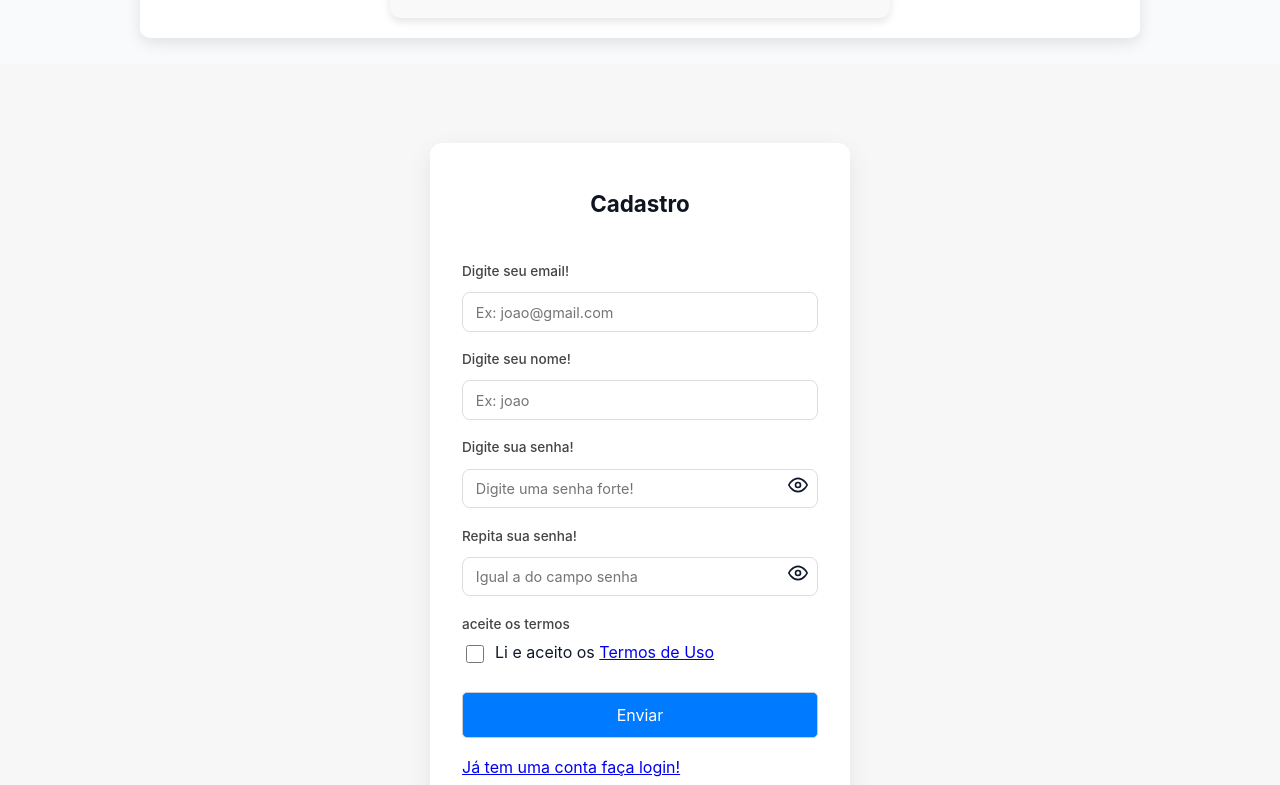
Test: should handle service response › should display the error message when the service returns status 422
(page scrolled)
Expected: the field with placeholder "Ex: joao@gmail.com" is shown, [462, 292, 818, 332]
Type "josef" into the field with placeholder "Ex: joao". click: point(640, 400)
box: [462, 380, 818, 420]
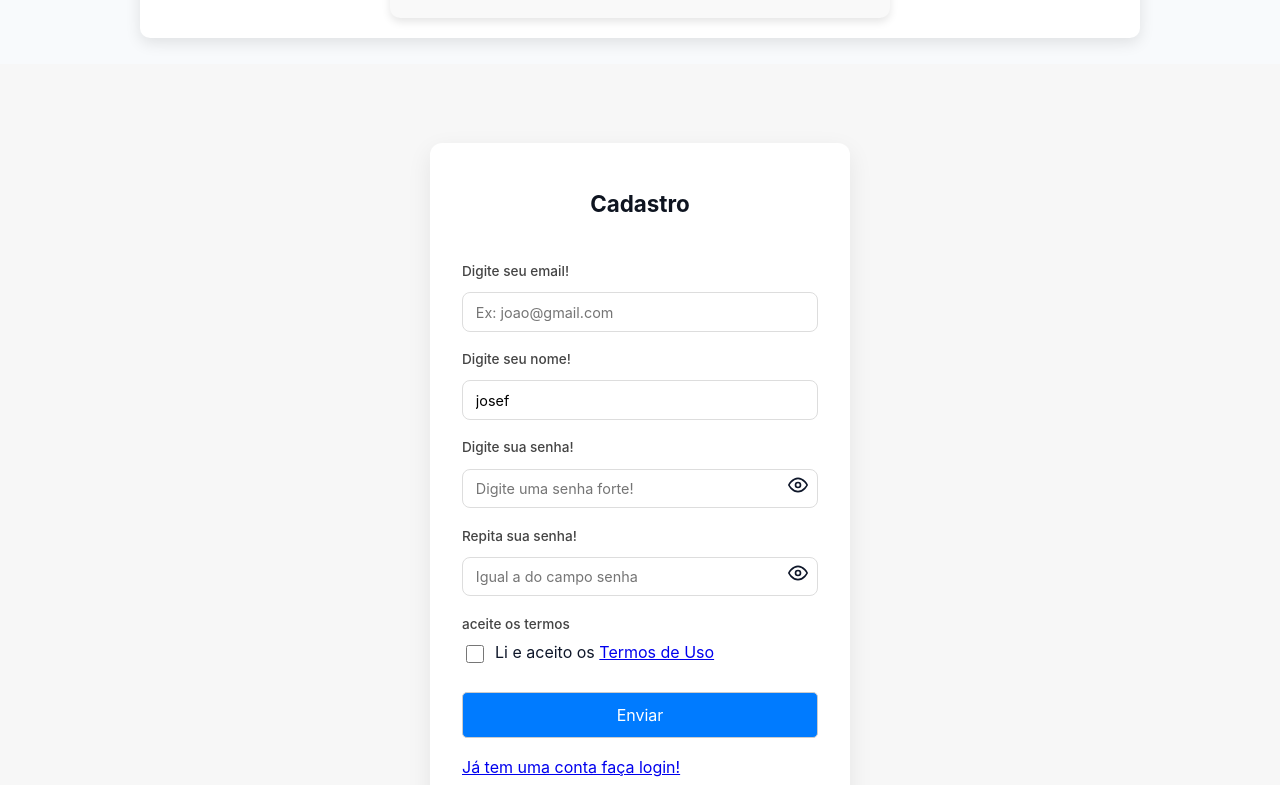
Type "lucas@gmail.com" into the field with placeholder "Ex: joao@gmail.com". click: point(640, 312)
box: [462, 292, 818, 332]
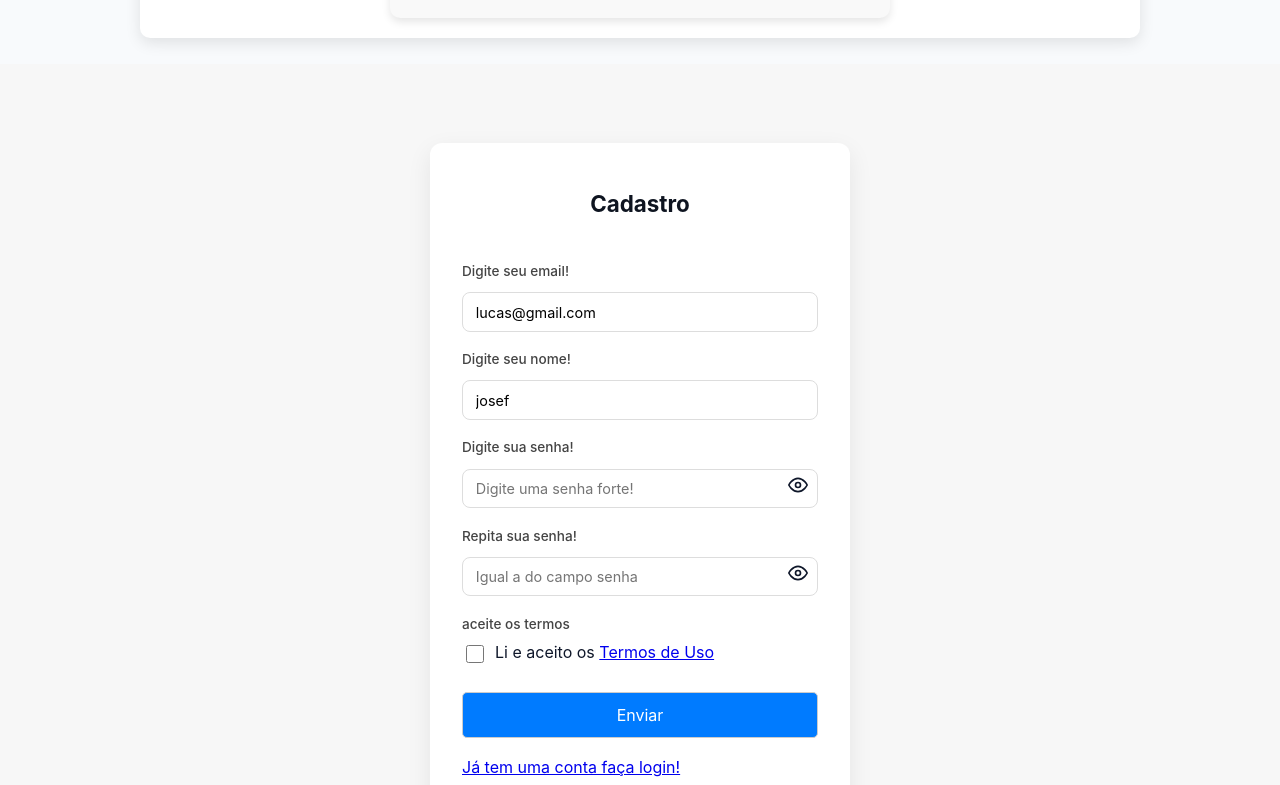
Type "123456" into the password field with placeholder "Digite uma senha forte!". click: point(640, 488)
box: [462, 468, 818, 508]
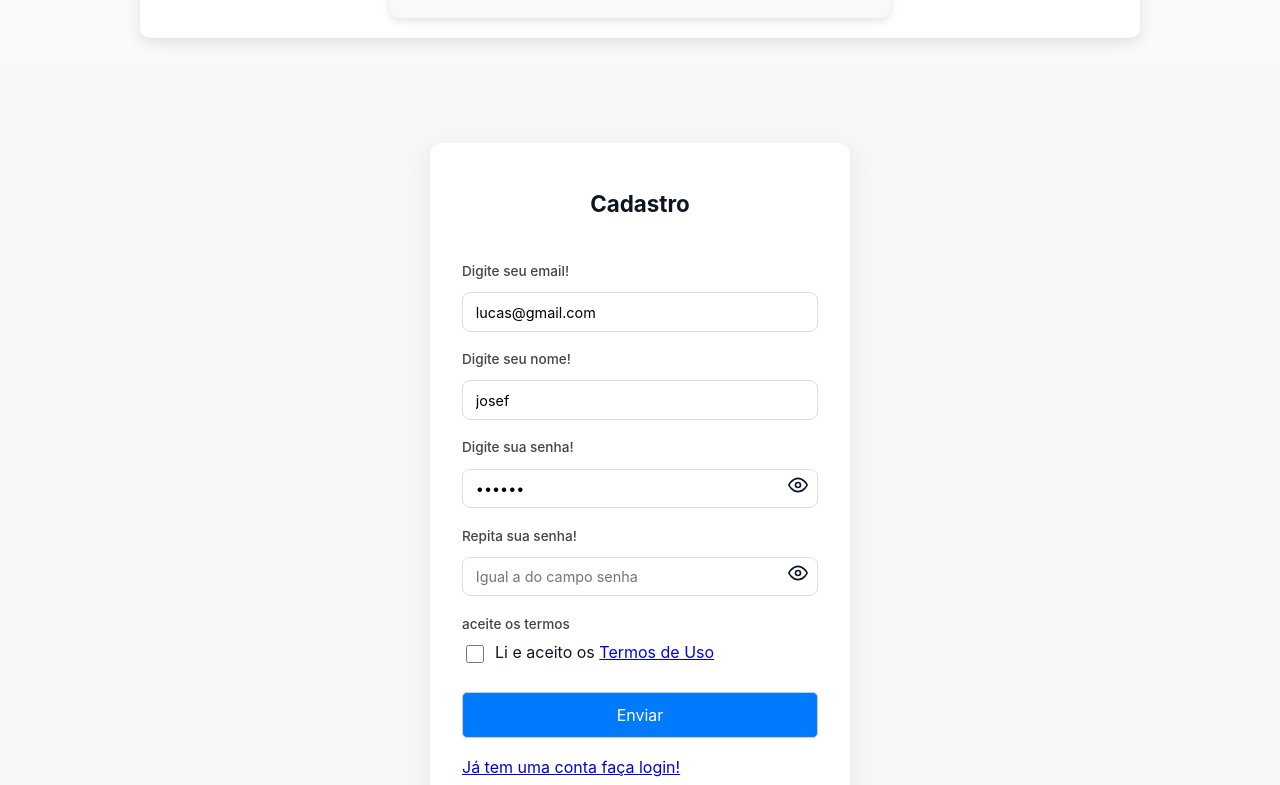
Type "123456" into the password field with placeholder "Igual a do campo senha". click: point(640, 576)
box: [462, 557, 818, 596]
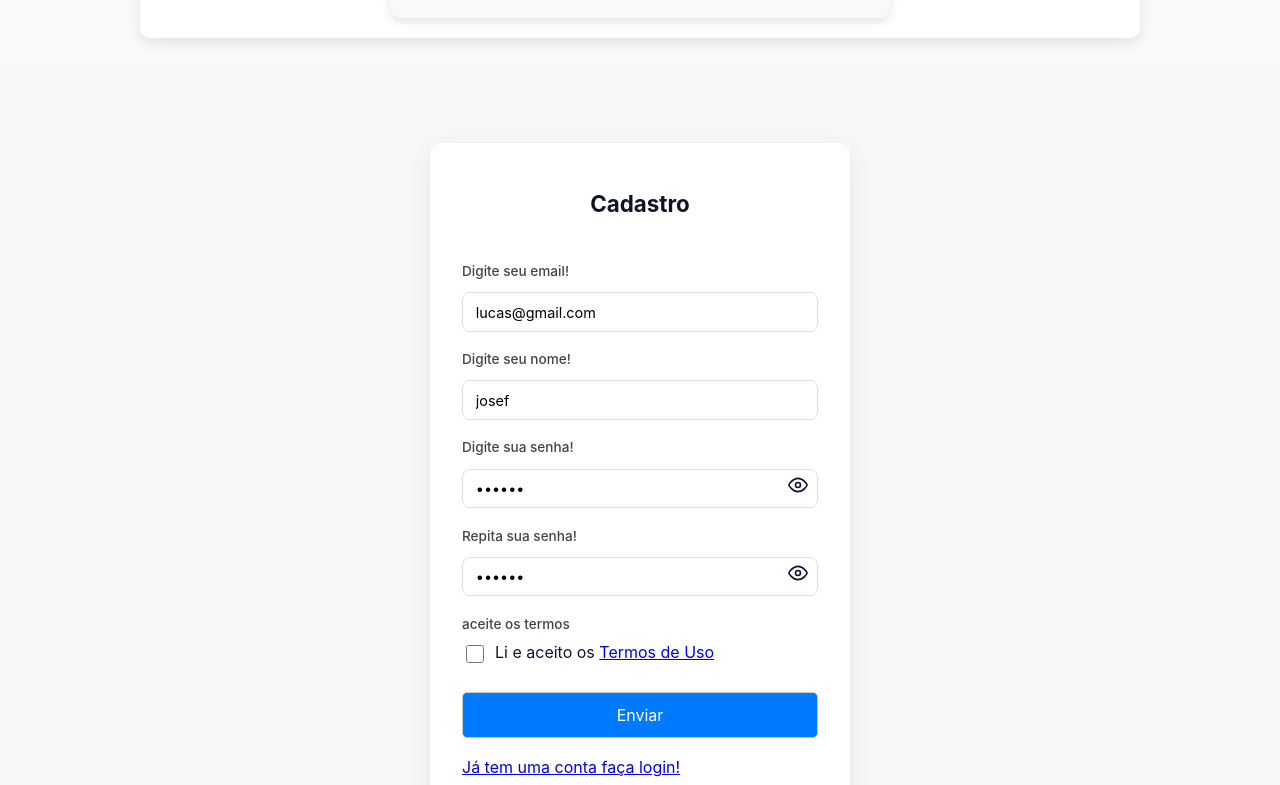
Click the checkbox. click: point(475, 654)
box: [466, 645, 484, 663]
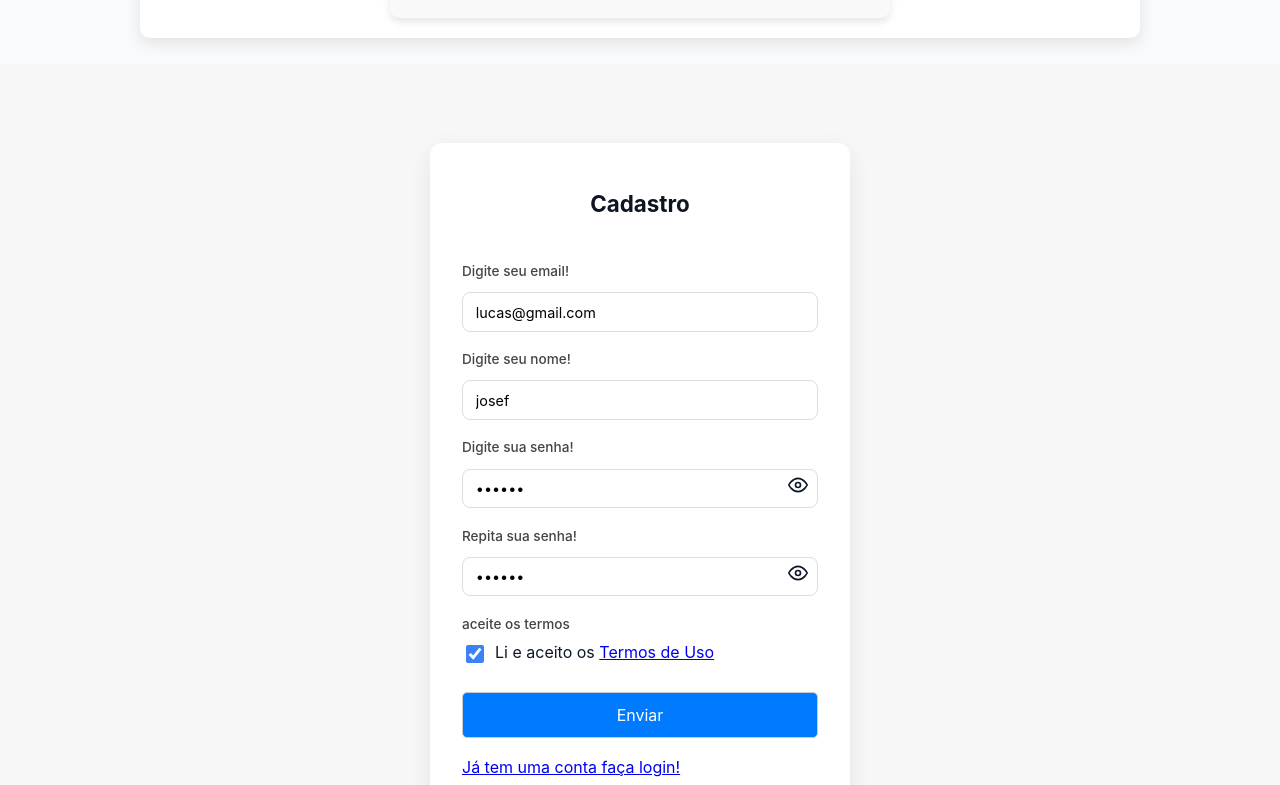
Click the button "Enviar". click: point(640, 715)
box: [462, 692, 818, 738]
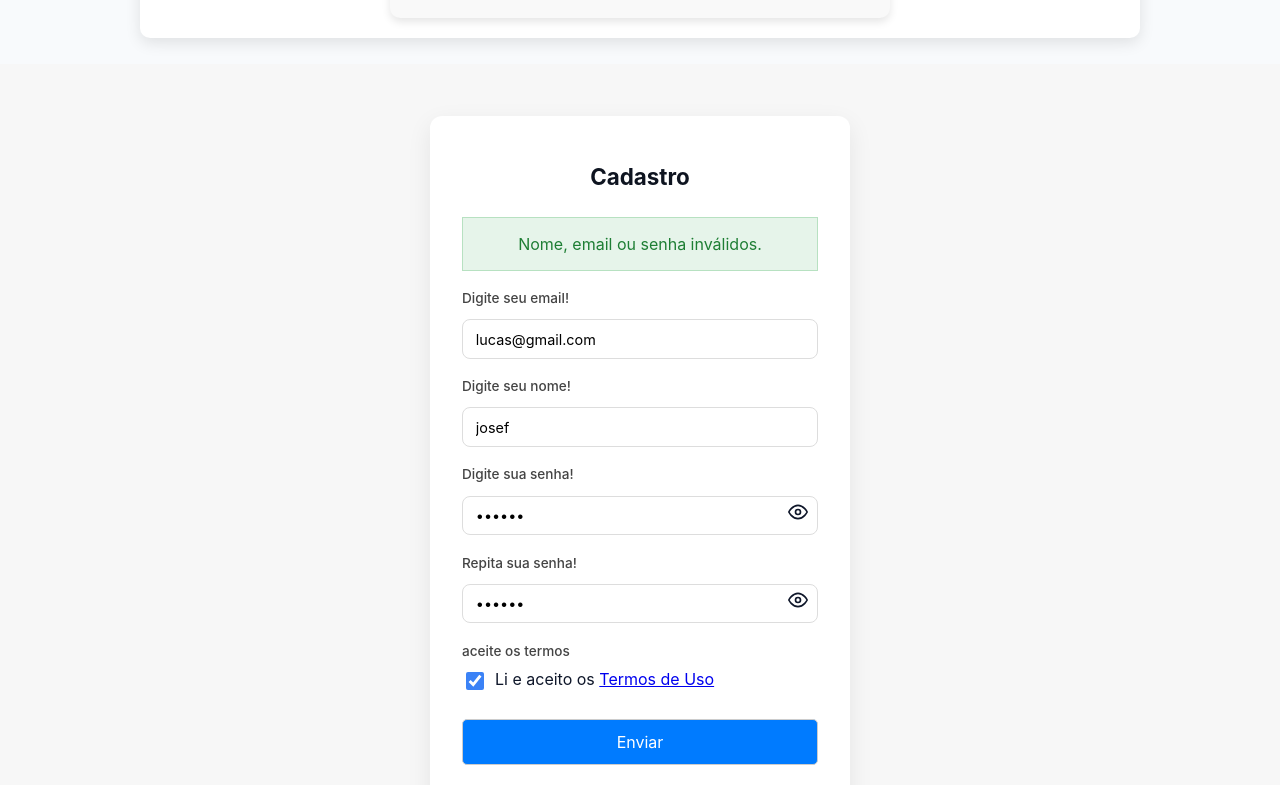
Now the text "Nome, email ou senha inválidos." is shown, box [518, 234, 762, 254]
